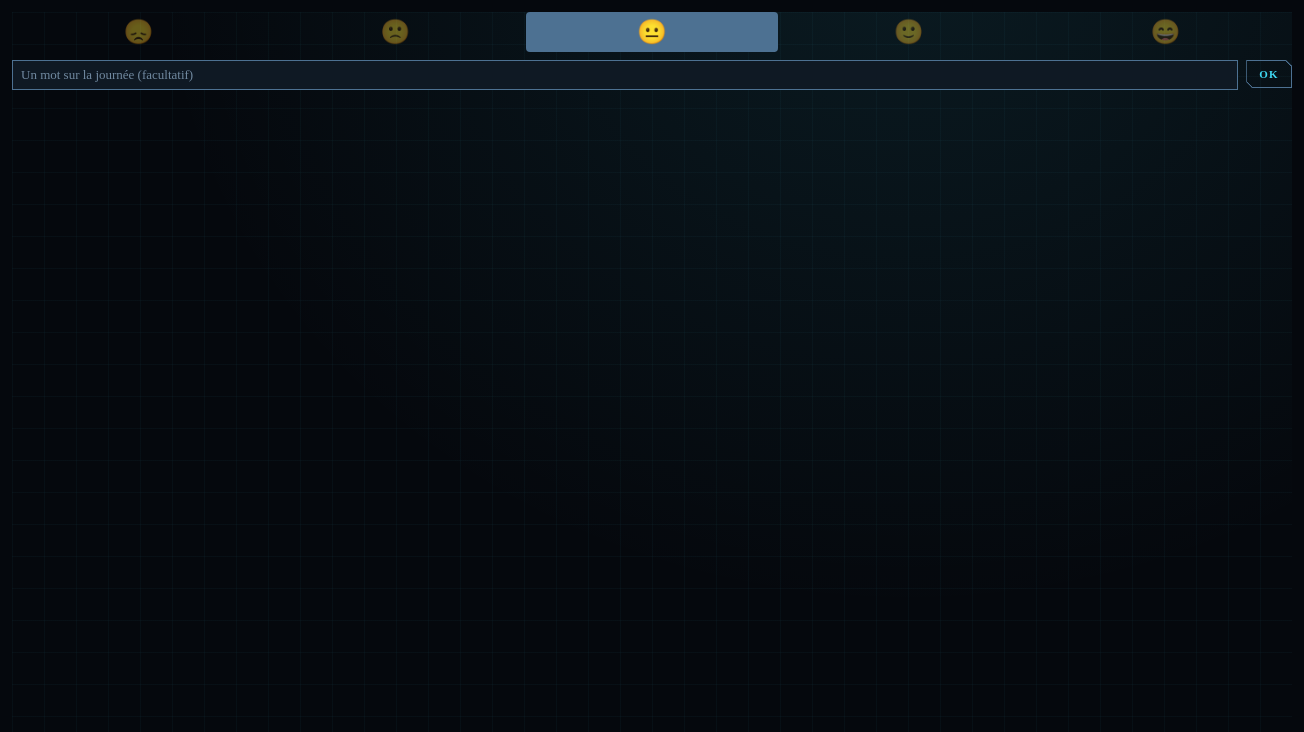
MoodPicker › note enregistrée: saveMoodNote appelé avec le texte, statut 'Enregistré.'
The width and height of the screenshot is (1304, 732).
In the field labelled "Un mot sur la journée": (625, 75) top-left (12, 60), bottom-right (1238, 90), type "Belle journée"
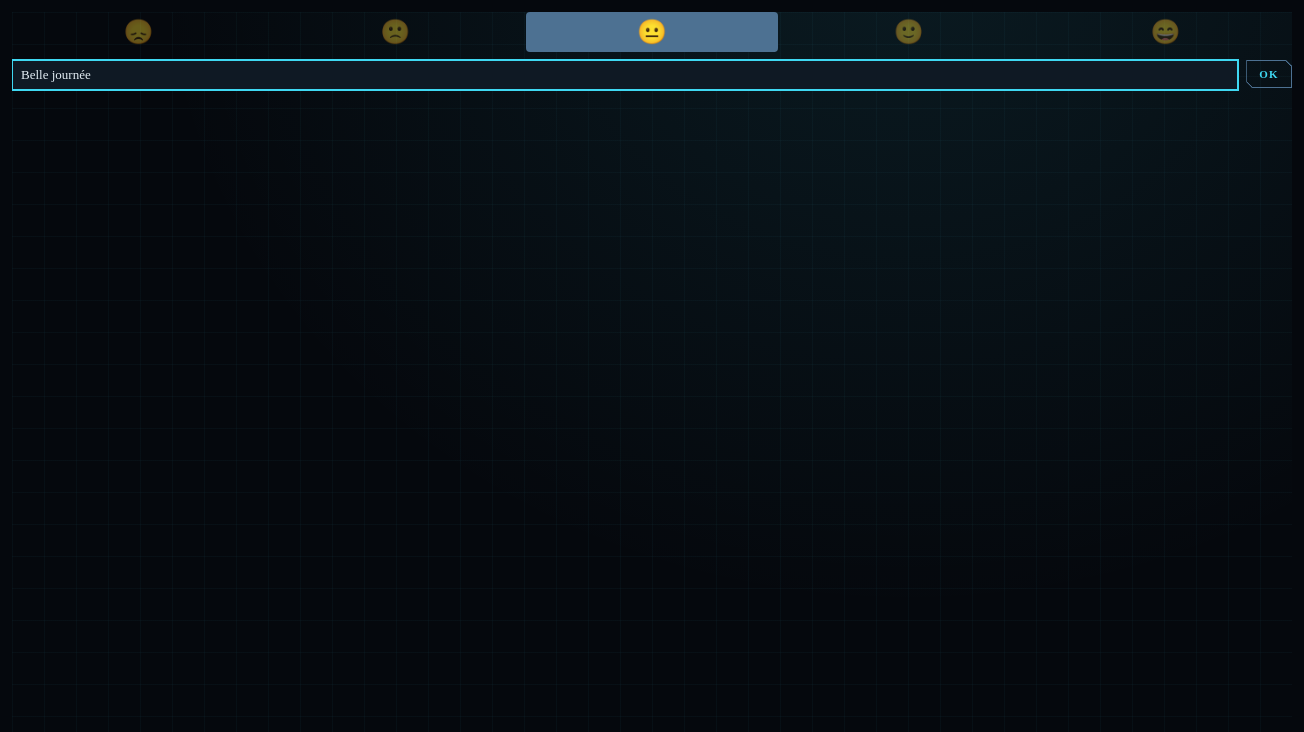
Click the button "OK": (1269, 74) top-left (1246, 60), bottom-right (1292, 88)
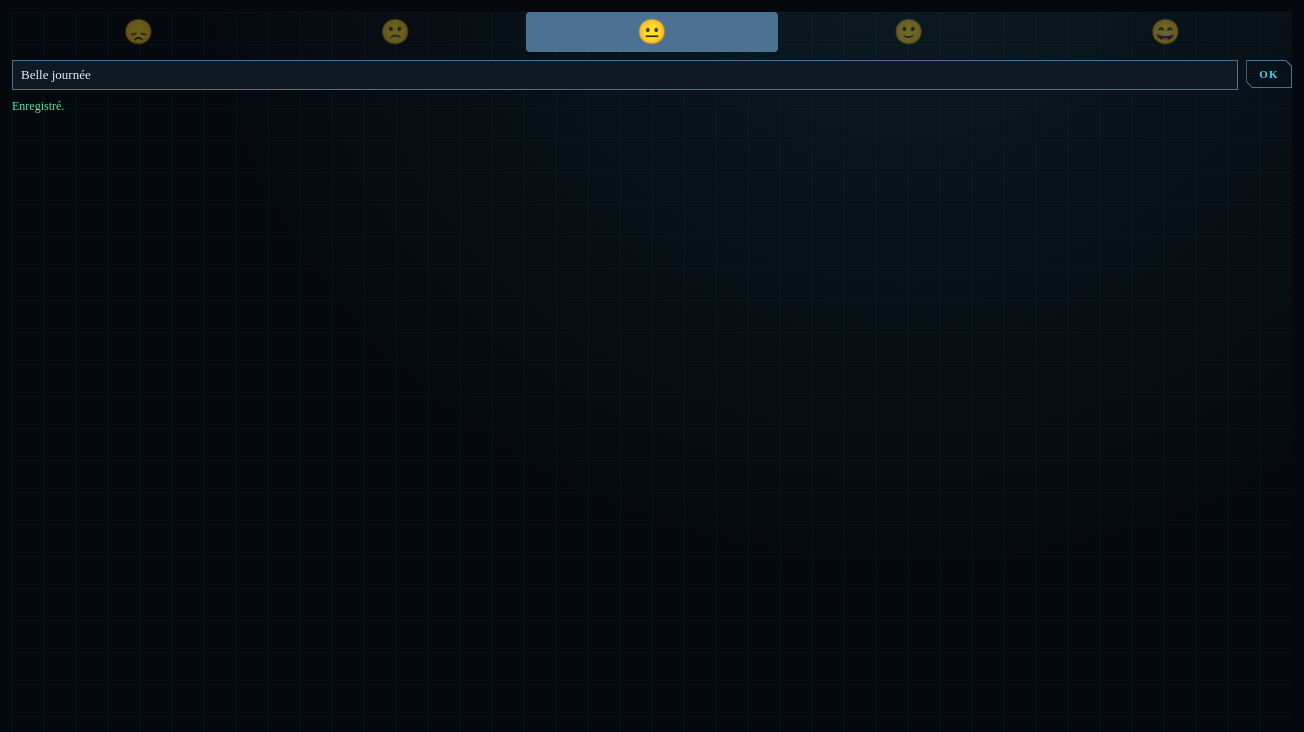
Result: the message reads "Enregistré." at top-left (12, 99), bottom-right (64, 113)
